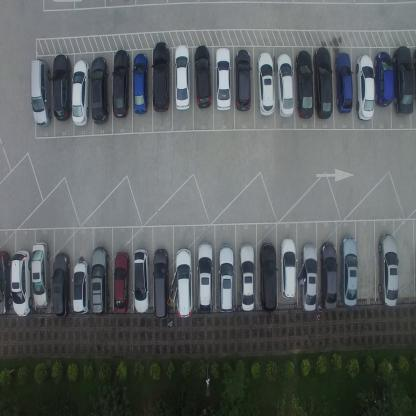car: (377, 232, 399, 308), (391, 46, 414, 118), (29, 57, 52, 128), (354, 52, 375, 122), (90, 245, 110, 317), (314, 48, 333, 121), (174, 247, 193, 319), (11, 249, 31, 317), (340, 234, 358, 308), (52, 53, 71, 123), (30, 241, 50, 307), (152, 41, 170, 114), (296, 50, 314, 122), (112, 47, 130, 118), (90, 55, 108, 125), (259, 242, 277, 312), (319, 241, 337, 310), (72, 58, 90, 126), (257, 51, 275, 118), (52, 252, 70, 319), (334, 52, 353, 115), (276, 54, 294, 120), (300, 243, 317, 312), (238, 243, 255, 312), (197, 241, 213, 314), (194, 45, 212, 109), (152, 247, 168, 319), (374, 50, 394, 107), (132, 248, 149, 314), (174, 43, 190, 111), (218, 244, 234, 312), (114, 250, 130, 316), (215, 47, 231, 111), (235, 50, 251, 113), (132, 52, 148, 114), (280, 237, 296, 299), (72, 259, 89, 315), (0, 249, 11, 315)
